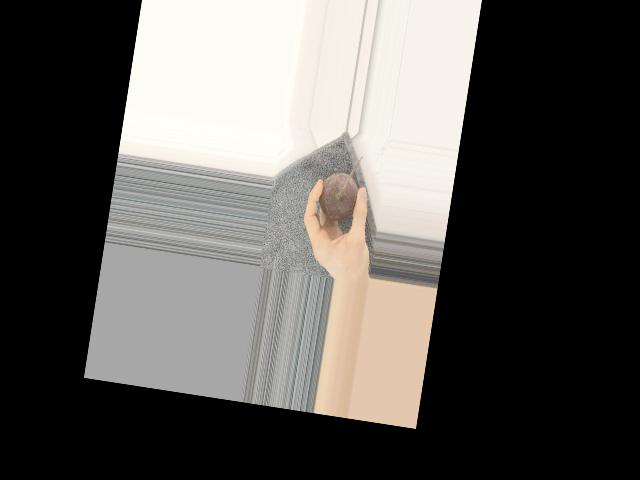beet: (316, 150, 363, 222)
